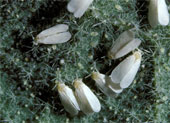whitefly: (108, 46, 150, 88), (98, 29, 144, 61), (31, 24, 71, 47)
